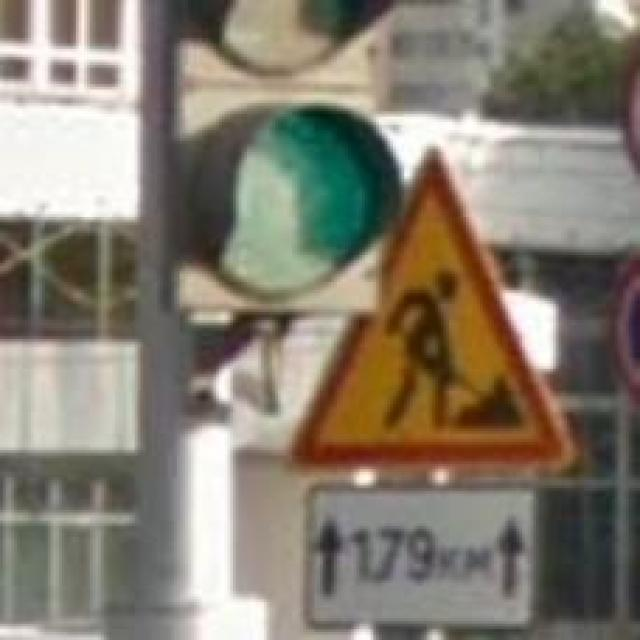traffic_sign: (284, 136, 581, 477)
